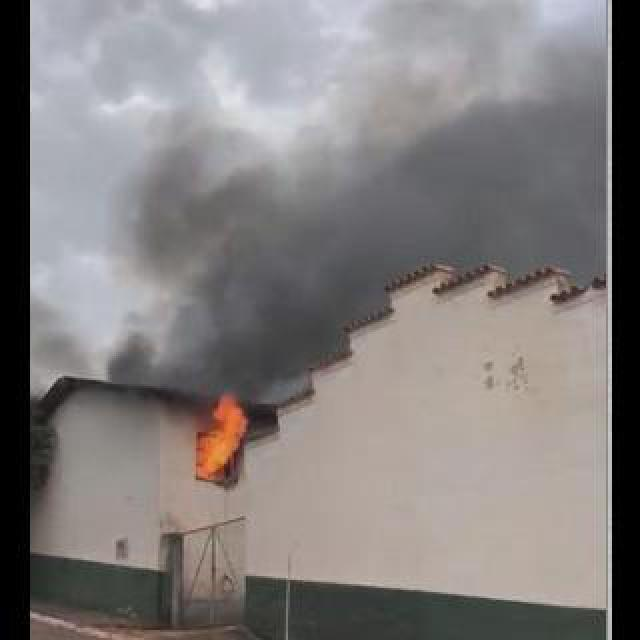smoke: (72, 90, 370, 390)
